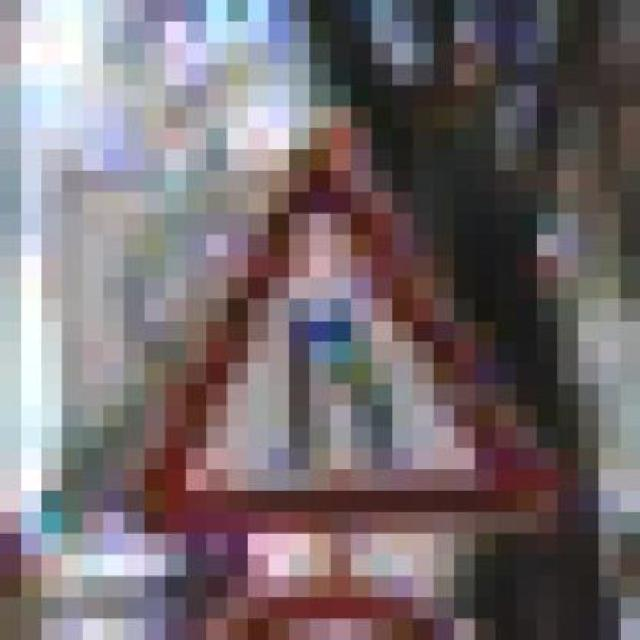-Road narrows on right: (124, 128, 599, 555)
